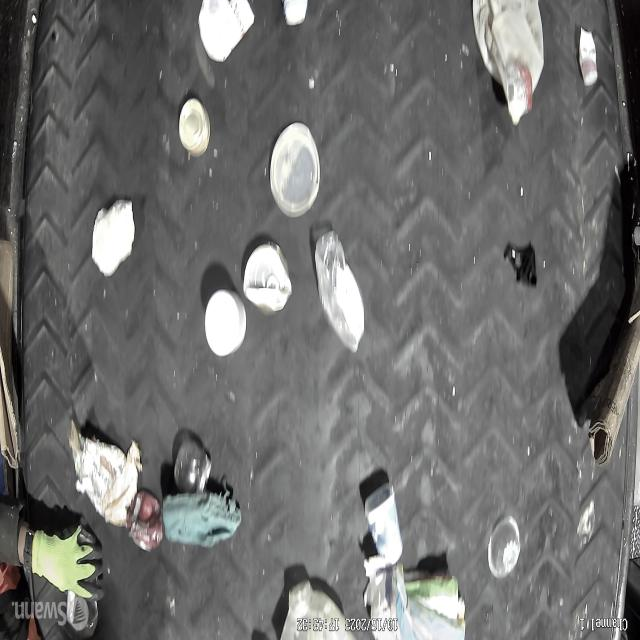can: (240, 236, 294, 318), (124, 482, 164, 562), (178, 92, 214, 172)
milk_jug: (472, 0, 542, 132), (274, 570, 354, 640)
